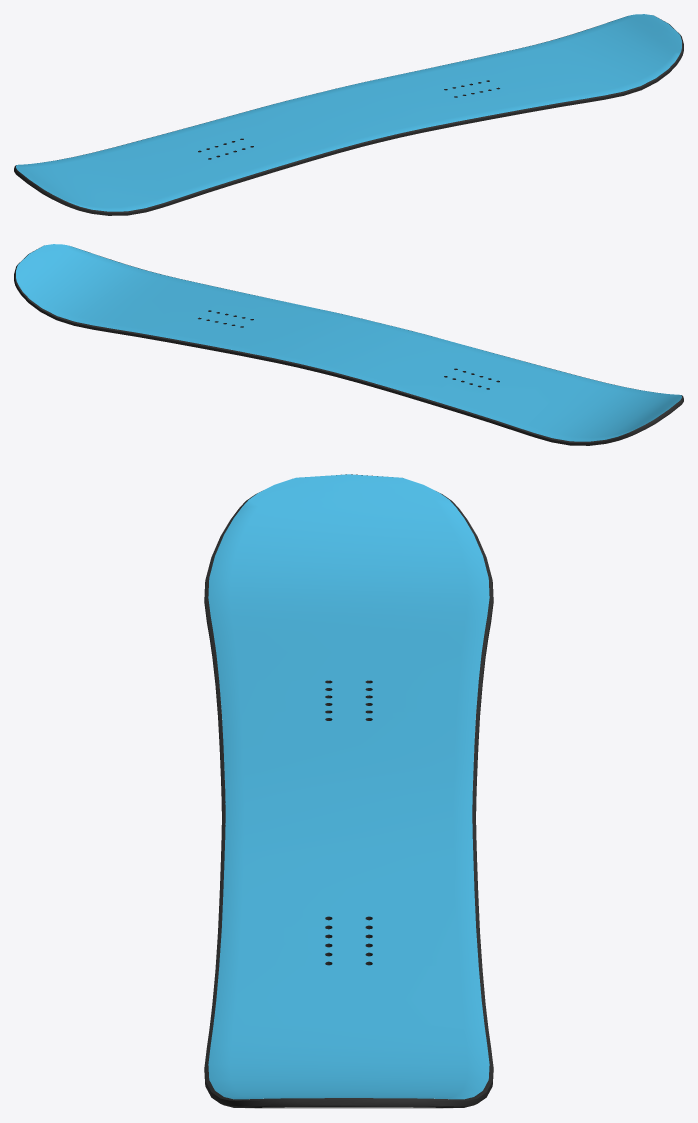
Rendered from snowboard_sharp.glb.
The picture shows the model from 3 angles, top to bottom: view 1: azimuth 30°, elevation 25°; view 2: azimuth 150°, elevation 25°; view 3: azimuth 270°, elevation 25°; orthographic projection. The views are drawn at different scales.
Parts seen in each view (by area): view 1: snowboard_sharp; view 2: snowboard_sharp; view 3: snowboard_sharp.
Part boxes in pixels (<box>): snowboard_sharp: <box>14,14,683,215</box>; snowboard_sharp: <box>14,244,683,445</box>; snowboard_sharp: <box>204,474,493,1108</box>.
Size of the model in its own units: 4.5 by 0.1809 by 0.8773.
